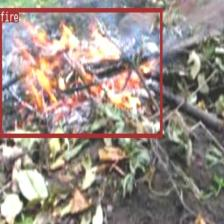fire: (0, 8, 162, 137)
